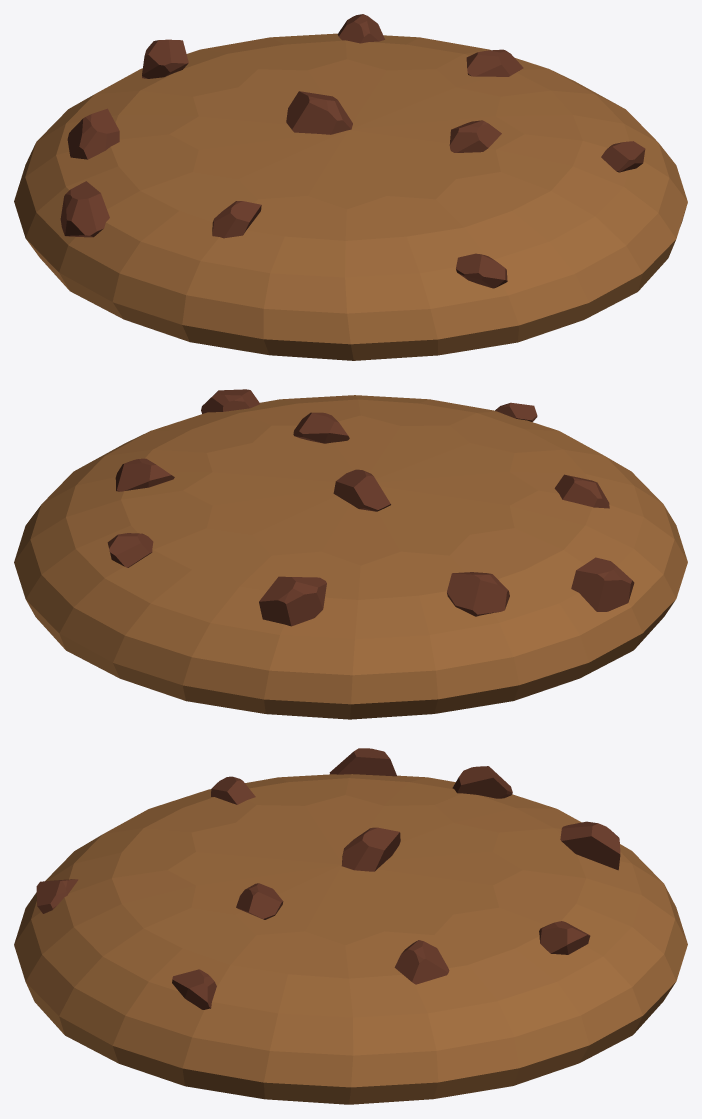
Rendered from Cookie.fbx.
3 views of the same model, one above another, from view 1: azimuth 30°, elevation 25°; view 2: azimuth 150°, elevation 25°; view 3: azimuth 270°, elevation 25° (orthographic).
Parts seen in each view (by area): view 1: Circle, Cube.003, Cube.009, Cube.001, Cube.007, Cube.006, Cube.008, Cube.005, Cube.004, Cube.002, Cube; view 2: Circle, Cube.007, Cube.009, Cube.001, Cube.003, Cube.004, Cube.008, Cube.005, Cube, Cube.002, Cube.006; view 3: Circle, Cube.007, Cube.003, Cube.004, Cube.001, Cube.009, Cube, Cube.002, Cube.008, Cube.006, Cube.005.
Part boxes in pixels (x1,y1,x2,y2): Circle: [14, 33, 687, 360]; Cube.003: [286, 91, 352, 134]; Cube.009: [60, 181, 109, 237]; Cube.001: [67, 108, 119, 159]; Cube.007: [142, 39, 188, 78]; Cube.006: [456, 253, 507, 288]; Cube.008: [449, 120, 501, 152]; Cube.005: [212, 201, 261, 238]; Cube.004: [466, 49, 523, 76]; Cube.002: [601, 141, 645, 172]; Cube: [337, 14, 384, 43]; Circle: [14, 395, 687, 719]; Cube.007: [259, 576, 326, 626]; Cube.009: [571, 557, 634, 611]; Cube.001: [447, 572, 509, 616]; Cube.003: [333, 469, 390, 511]; Cube.004: [115, 458, 174, 491]; Cube.008: [293, 412, 349, 443]; Cube.005: [554, 474, 609, 508]; Cube: [107, 533, 153, 567]; Cube.002: [201, 389, 259, 413]; Cube.006: [495, 402, 537, 421]; Circle: [14, 774, 687, 1104]; Cube.007: [560, 821, 620, 870]; Cube.003: [341, 827, 400, 871]; Cube.004: [394, 940, 449, 984]; Cube.001: [452, 766, 512, 798]; Cube.009: [329, 748, 396, 776]; Cube: [539, 921, 590, 954]; Cube.002: [172, 969, 216, 1009]; Cube.008: [236, 883, 283, 919]; Cube.006: [36, 879, 78, 913]; Cube.005: [211, 776, 255, 804].
Size of the model in its own units: 169 by 39.41 by 169.
